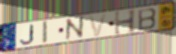B: (137, 7, 158, 32)
H: (114, 8, 137, 37)
I: (41, 20, 49, 45)
J: (19, 24, 35, 46)
N: (65, 15, 86, 42)
V: (87, 13, 109, 38)
